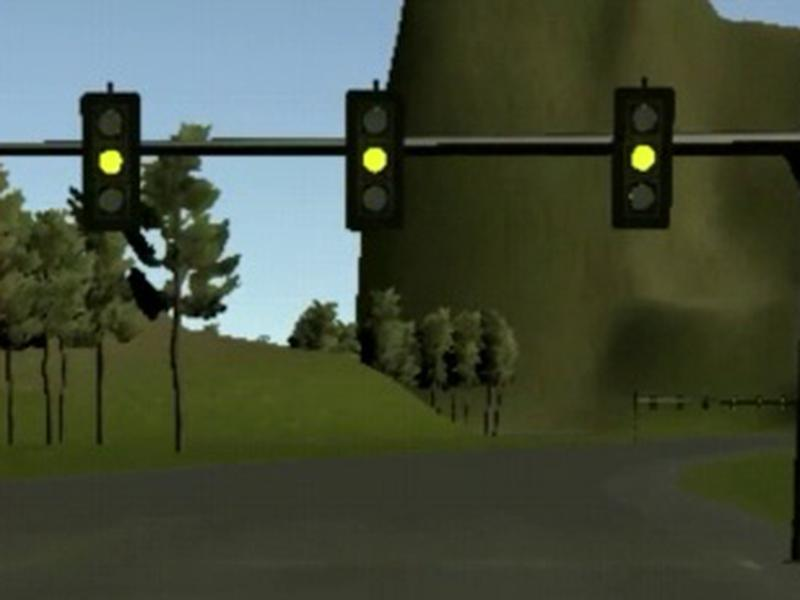Yellow: (611, 85, 676, 229), (344, 90, 404, 231), (82, 92, 141, 232)
